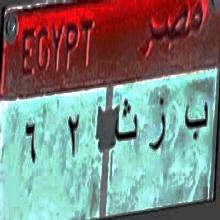2: (62, 108, 87, 164)
6: (22, 112, 40, 171)
baa: (180, 90, 210, 149)
thaa: (115, 94, 141, 150)
zay: (148, 92, 170, 159)
